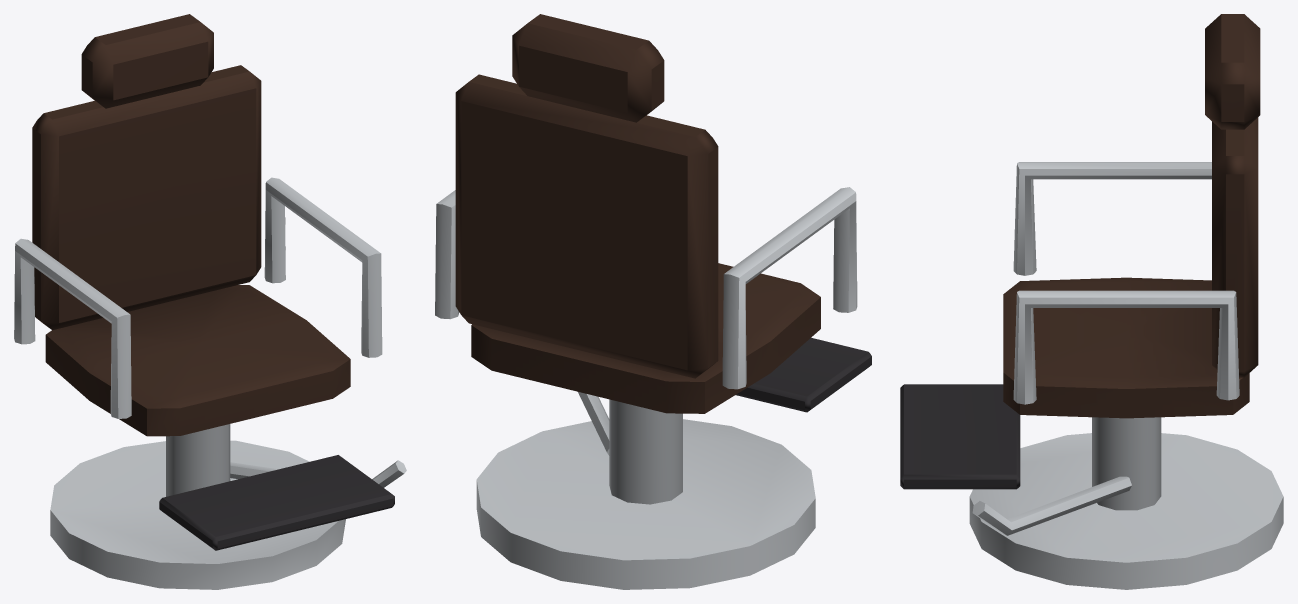
The model's file is chair_salon.glb.
The picture shows the model from 3 angles, left to right: view 1: azimuth 30°, elevation 25°; view 2: azimuth 150°, elevation 25°; view 3: azimuth 270°, elevation 25°; orthographic projection. The views are drawn at different scales.
Parts seen in each view (by area): view 1: chair_salon; view 2: chair_salon; view 3: chair_salon.
Boxes of the visible parts, bbox=[...] form: chair_salon: bbox=[14, 14, 406, 589]; chair_salon: bbox=[435, 14, 871, 589]; chair_salon: bbox=[900, 14, 1283, 589].
Size of the model in its own units: 0.7187 by 1.16 by 0.83.
